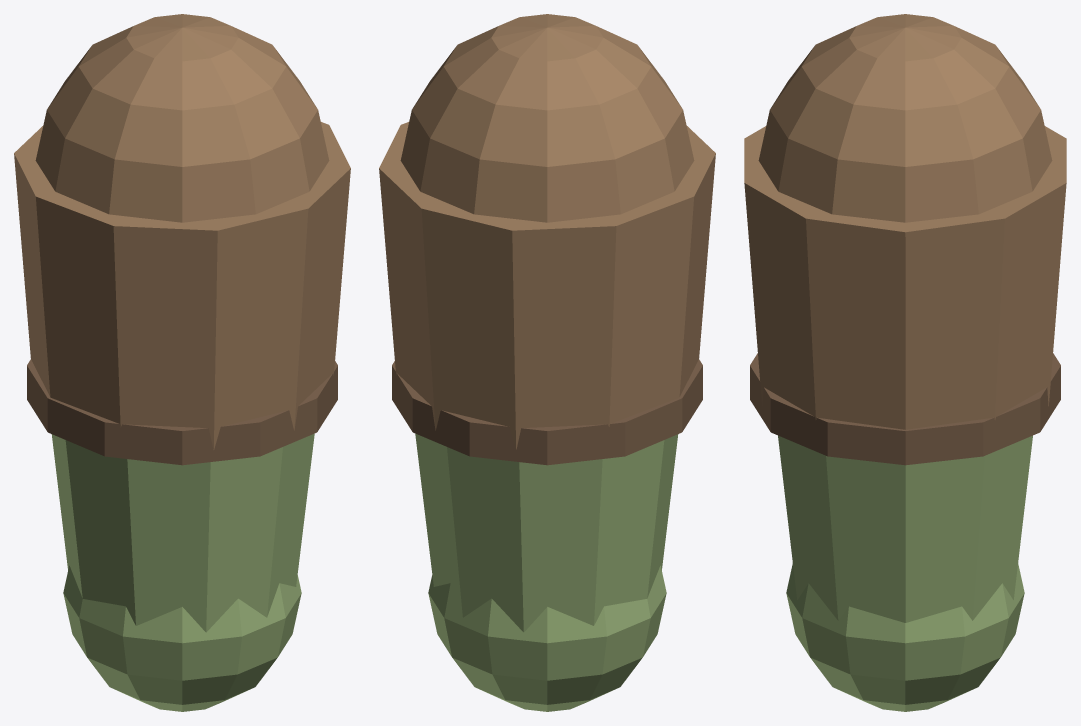
The model's file is SM_Orc_Thigh_L.fbx.
3 views of the same model, side by side, from view 1: azimuth 30°, elevation 25°; view 2: azimuth 150°, elevation 25°; view 3: azimuth 270°, elevation 25° (orthographic).
Visible parts, largest first — view 1: SM_Orc_Thigh_L; view 2: SM_Orc_Thigh_L; view 3: SM_Orc_Thigh_L.
Boxes of the visible parts, box(x1,y1,x2,y2) form: SM_Orc_Thigh_L: box(14, 14, 350, 711); SM_Orc_Thigh_L: box(379, 14, 715, 711); SM_Orc_Thigh_L: box(744, 14, 1066, 711).
Size of the model in its own units: 0.27 by 0.592 by 0.2568.
